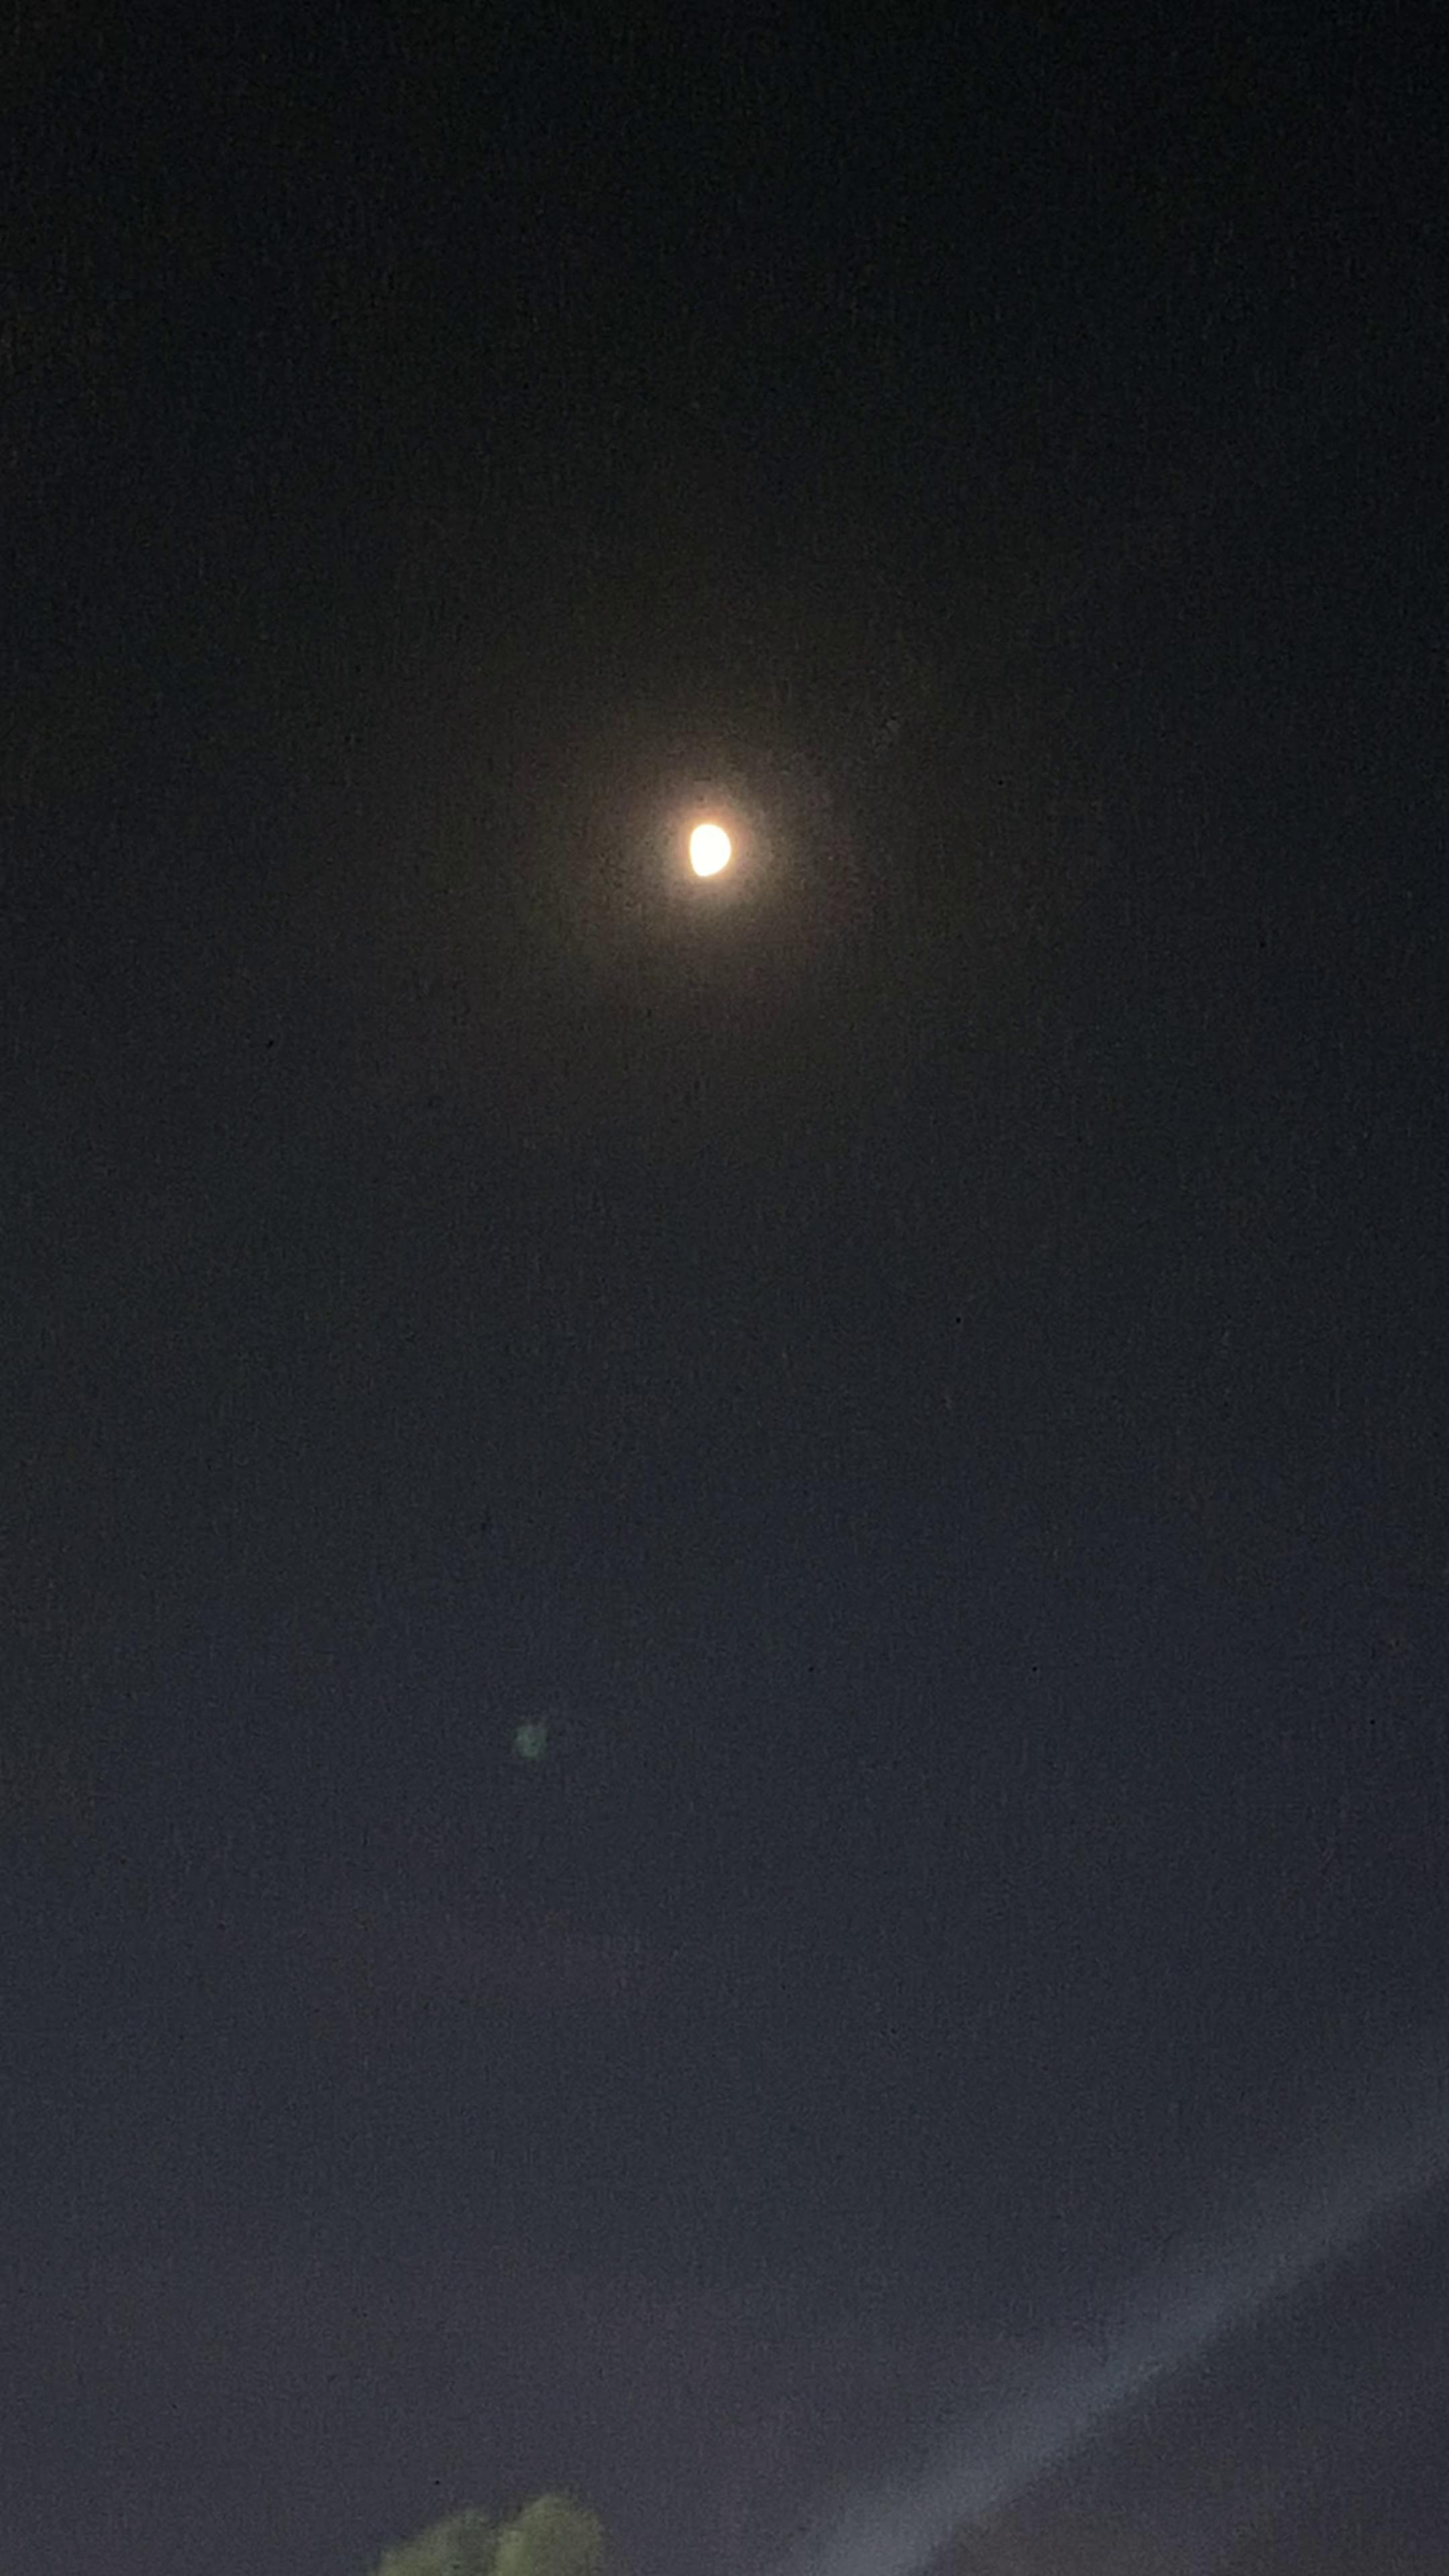moon: (676, 794, 793, 922)
